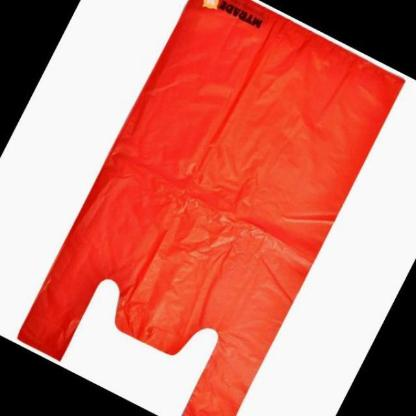Others: (16, 0, 406, 416)
